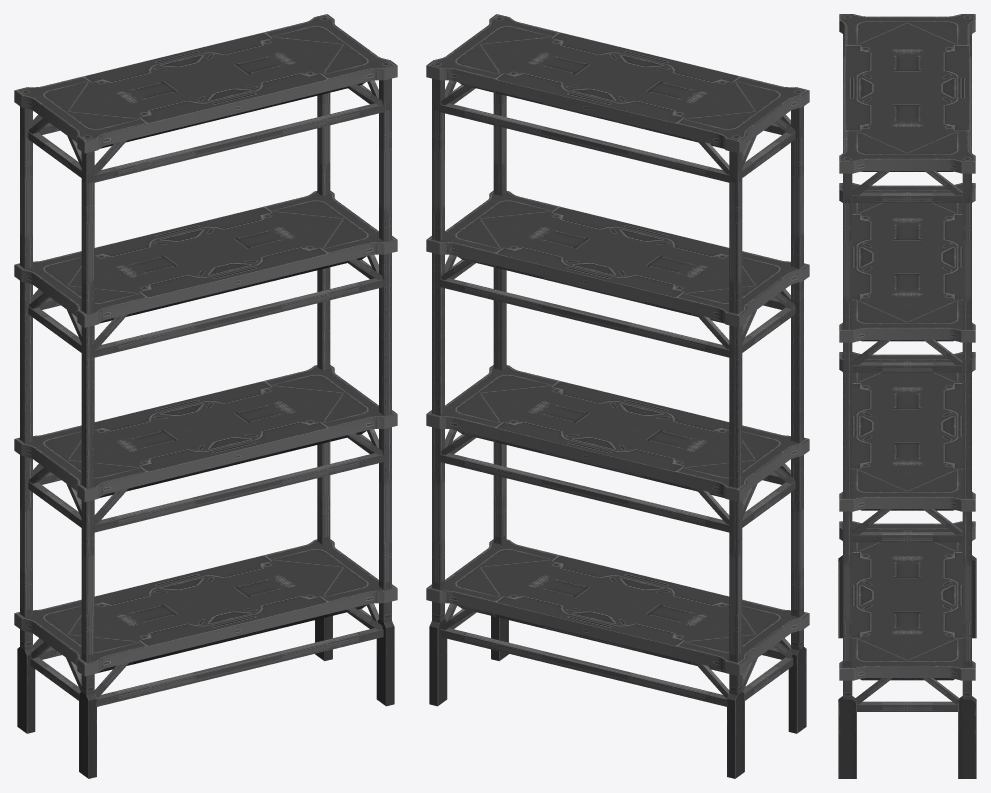
Rendered from Prop_Shelves_ThinTall.glb.
The picture shows the model from 3 angles, left to right: view 1: azimuth 30°, elevation 25°; view 2: azimuth 150°, elevation 25°; view 3: azimuth 270°, elevation 25°; orthographic projection. The views are drawn at different scales.
Visible parts, largest first — view 1: Prop_Shelves_ThinTall; view 2: Prop_Shelves_ThinTall; view 3: Prop_Shelves_ThinTall.
Boxes of the visible parts, x1,y1,x2,y2 form: Prop_Shelves_ThinTall: (14,14,397,778); Prop_Shelves_ThinTall: (426,14,809,778); Prop_Shelves_ThinTall: (838,14,976,778).
Size of the model in its own units: 1.37 by 2.67 by 0.5407.
Materials: 1 (1 with a texture image).
